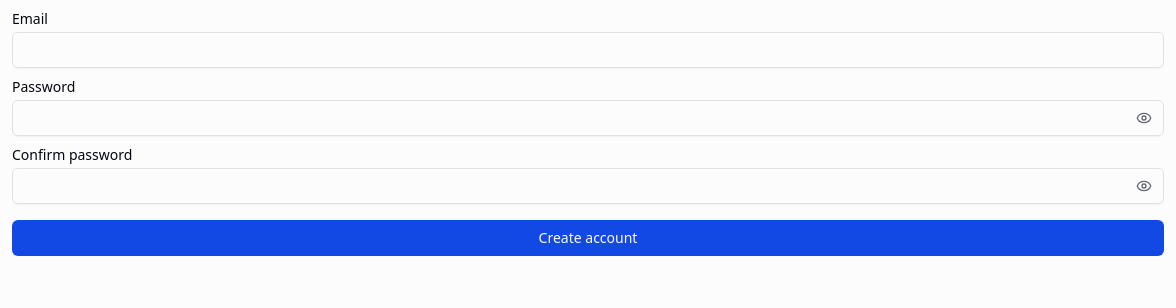
Scenario: SignUpForm › blocks submit when passwords don't match
In the field labelled "Email": (588, 50) top-left (12, 32), bottom-right (1164, 68), type "a@b.com"
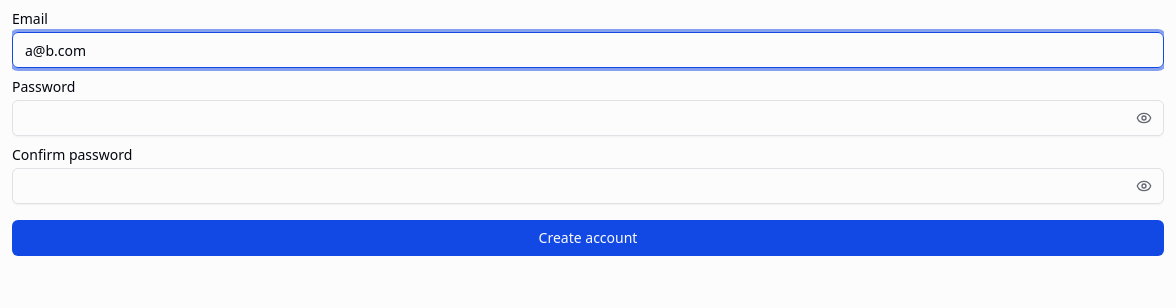
In the password field labelled "Password": (588, 118) top-left (12, 100), bottom-right (1164, 136), type "12345678"
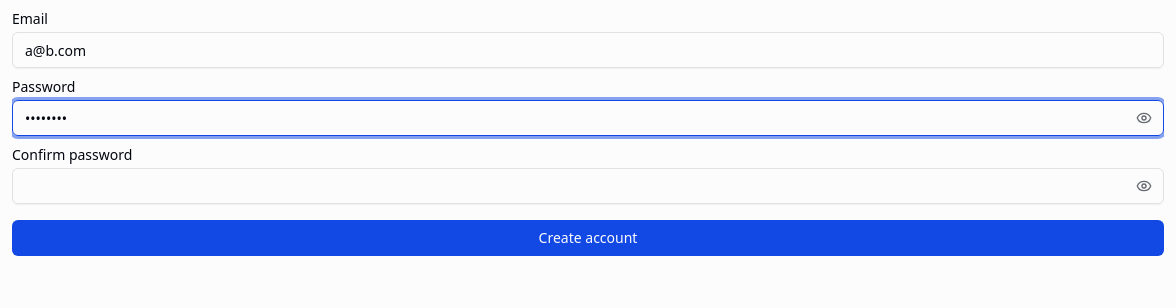
In the password field labelled "Confirm password": (588, 186) top-left (12, 168), bottom-right (1164, 204), type "different"
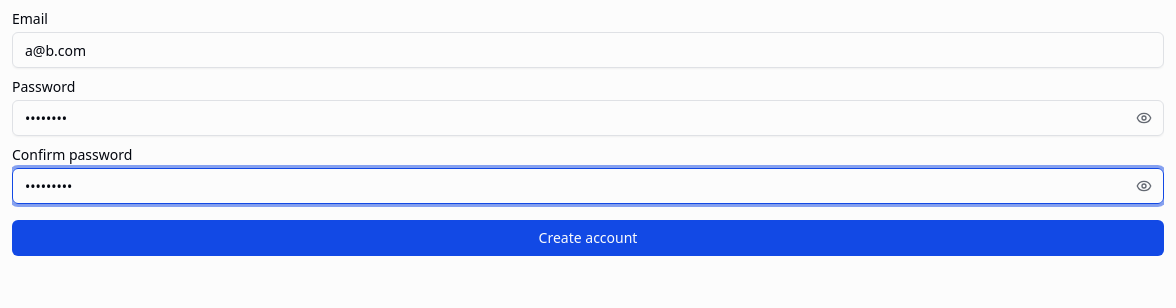
Click the button "Create account": (588, 238) top-left (12, 220), bottom-right (1164, 256)
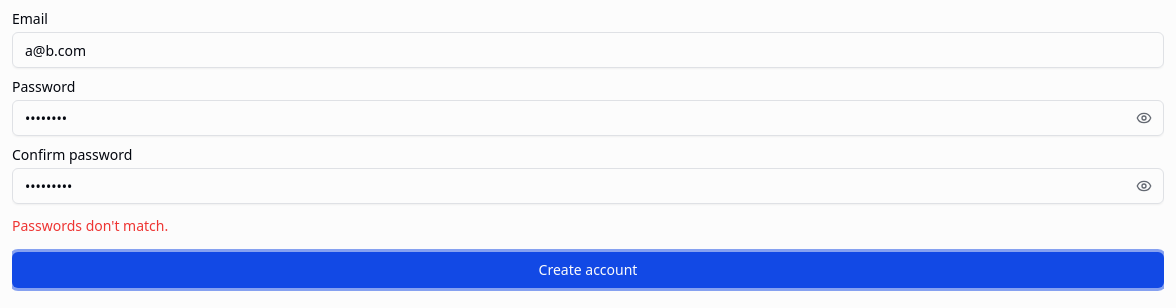
Now the text "Passwords don't match." is shown, box top-left (12, 216), bottom-right (168, 235)
